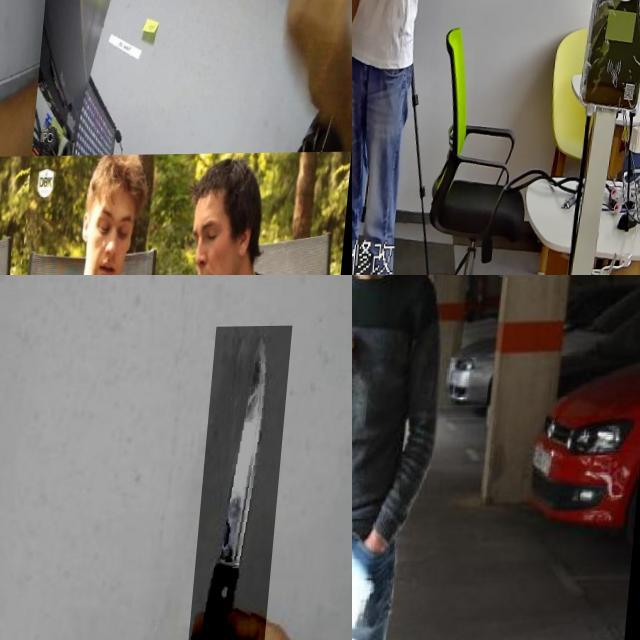-: (187, 327, 295, 640), (0, 0, 30, 152), (232, 0, 302, 46), (352, 367, 373, 473)
gun-knife-thesis - v11 Yolov5 augmented: (352, 0, 380, 39)
